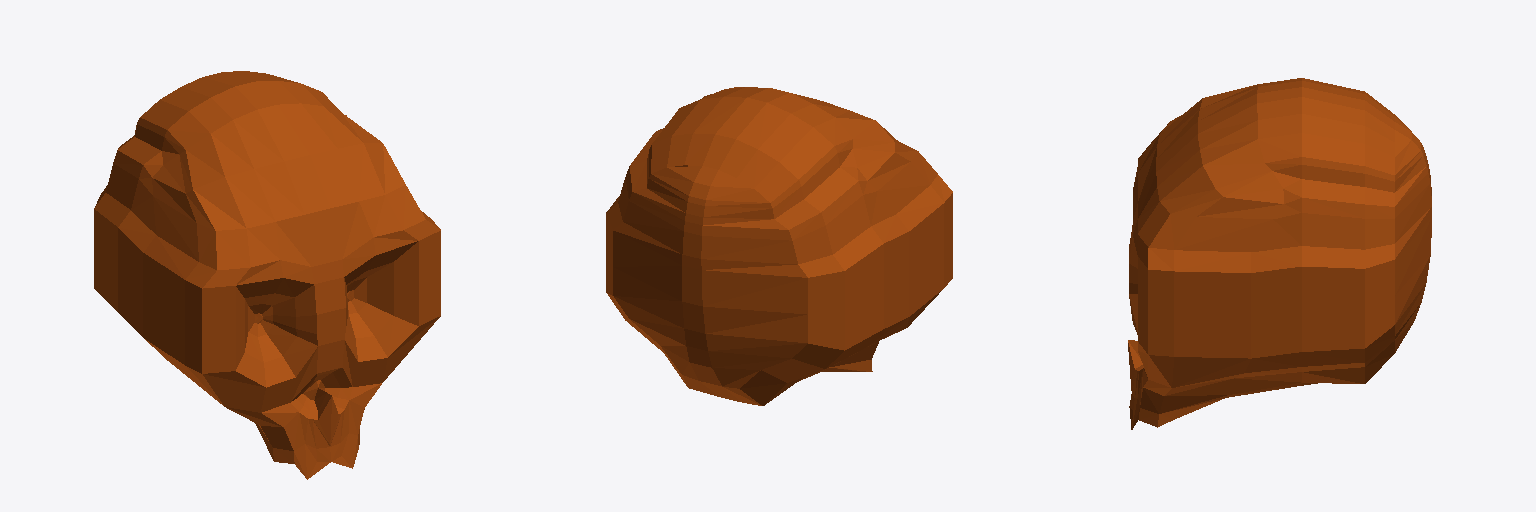
File: Skull.obj
3 views of the same model, side by side, from view 1: azimuth 30°, elevation 25°; view 2: azimuth 150°, elevation 25°; view 3: azimuth 270°, elevation 25° (orthographic).
Parts seen in each view (by area): view 1: Skull; view 2: Skull; view 3: Skull.
Part boxes in pixels (x1,y1,x2,y2): Skull: (94, 71, 440, 479); Skull: (606, 87, 952, 405); Skull: (1128, 78, 1431, 429).
Bounding box in the file's own units: 0.1492 × 0.1843 × 0.1552.